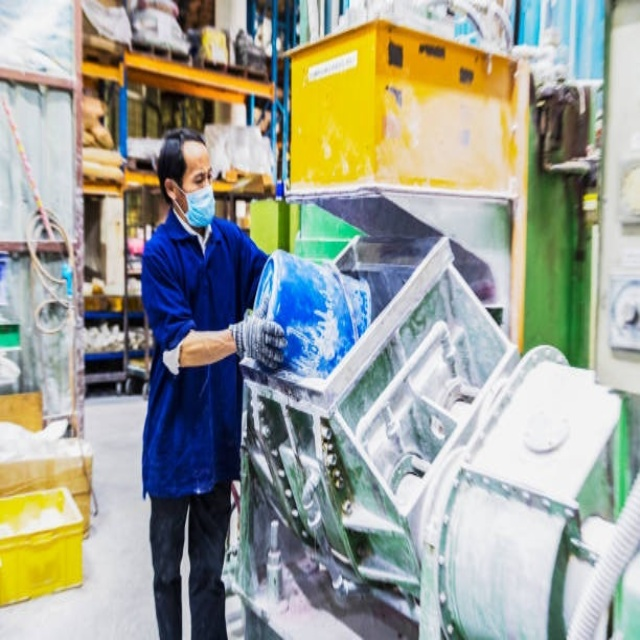Guantes: (229, 311, 286, 370)
Mascara: (176, 181, 216, 228)
Sin_gafas: (179, 166, 216, 190)
